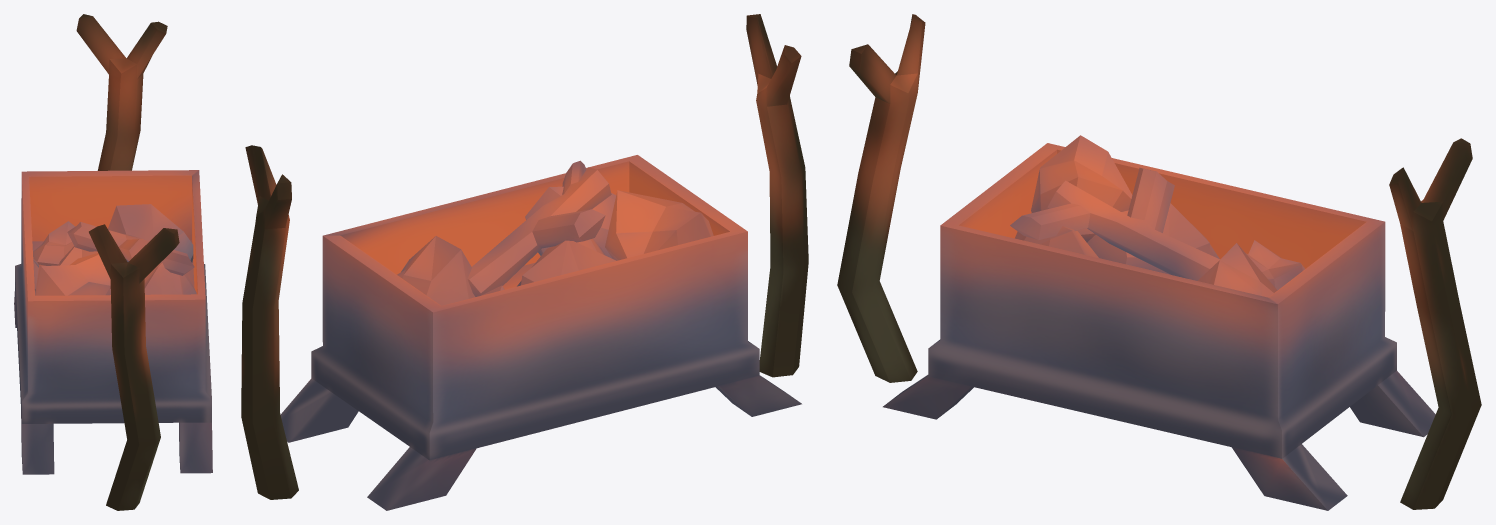
Rendered from pcube4_lambert8_0_lev2.glb.
3 renders of one model, left to right at view 1: azimuth 30°, elevation 25°; view 2: azimuth 150°, elevation 25°; view 3: azimuth 270°, elevation 25°, orthographic. The views are drawn at different scales.
Parts seen in each view (by area): view 1: pcube4_lambert8_0_lev2; view 2: pcube4_lambert8_0_lev2; view 3: pcube4_lambert8_0_lev2.
Boxes of the visible parts, x1=… form: pcube4_lambert8_0_lev2: x1=14, y1=14, x2=212, y2=510; pcube4_lambert8_0_lev2: x1=241, y1=14, x2=808, y2=510; pcube4_lambert8_0_lev2: x1=837, y1=14, x2=1481, y2=510.
Bounding box in the file's own units: 0.7667 × 0.6512 × 1.09.
Materials: 1 (1 with a texture image).
